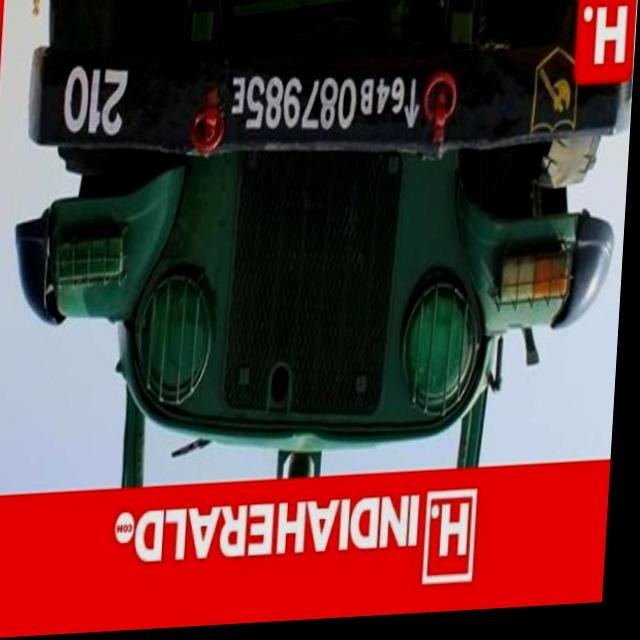0: (62, 63, 92, 133), (336, 81, 360, 133)
1: (88, 68, 104, 135)
2: (101, 67, 132, 136)
4: (376, 82, 392, 118)
5: (248, 78, 268, 132)
6: (391, 82, 407, 118)
7: (303, 85, 323, 135)
8: (265, 79, 288, 131), (320, 80, 342, 134)
9: (282, 81, 306, 131)
b: (361, 84, 376, 120)
e: (231, 79, 249, 119)
